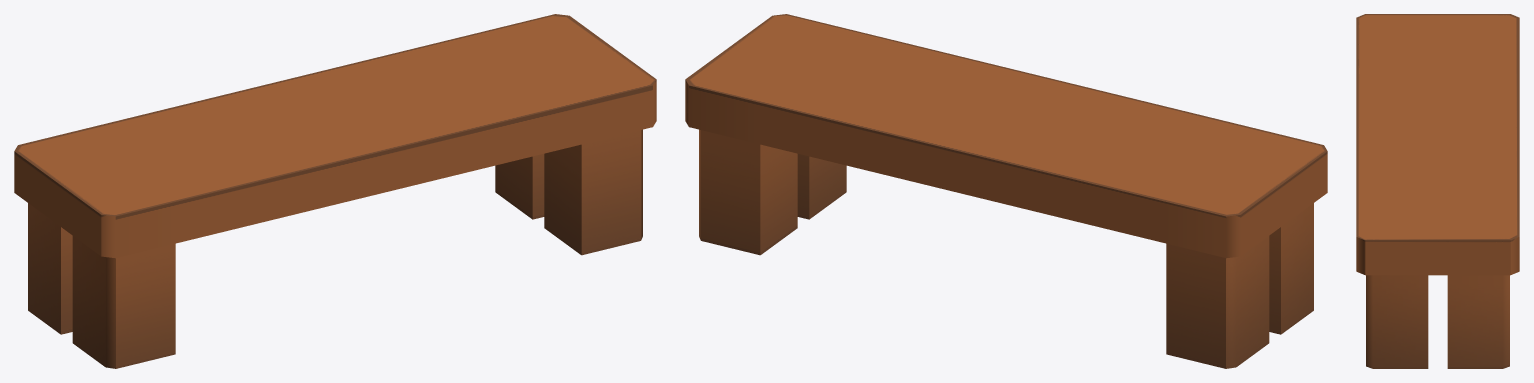
Rendered from Table.fbx.
3 views of the same model, side by side, from view 1: azimuth 30°, elevation 25°; view 2: azimuth 150°, elevation 25°; view 3: azimuth 270°, elevation 25° (orthographic). The views are drawn at different scales.
Visible parts, largest first — view 1: pCube14; view 2: pCube14; view 3: pCube14.
Part boxes in pixels (<box>): pCube14: <box>14,14,656,368</box>; pCube14: <box>685,14,1327,368</box>; pCube14: <box>1356,14,1519,368</box>.
Size of the model in its own units: 15.74 by 4.28 by 4.79.
